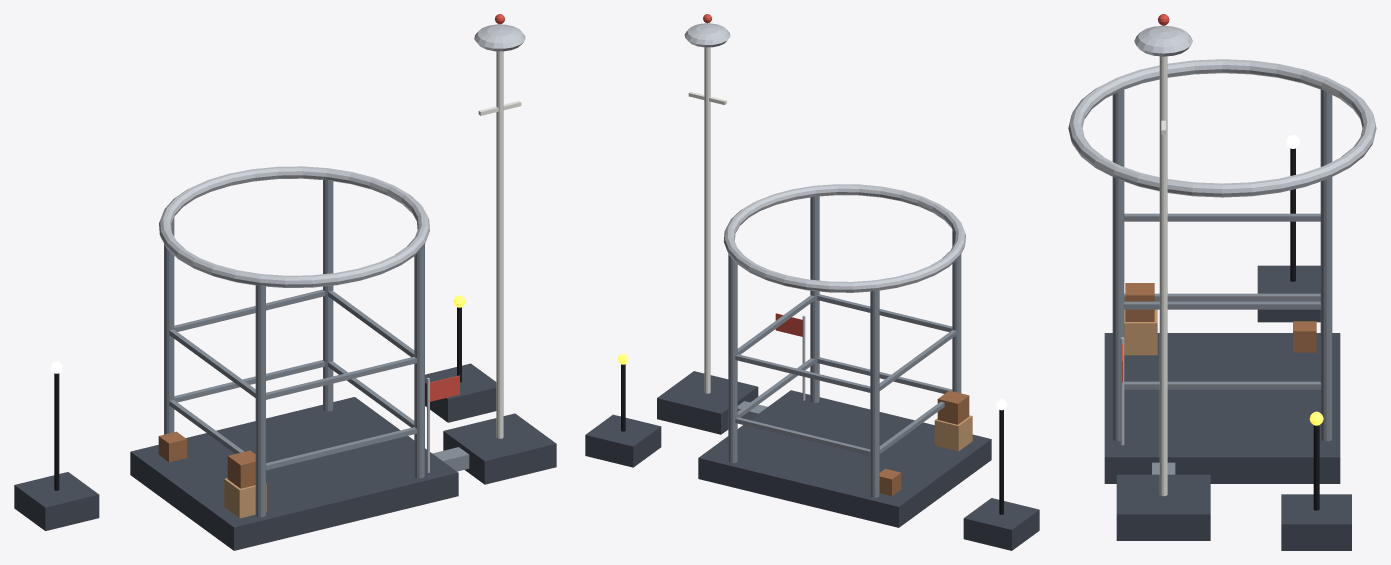
Rendered from site_station.glb.
3 views of the same model, side by side, from view 1: azimuth 30°, elevation 25°; view 2: azimuth 150°, elevation 25°; view 3: azimuth 270°, elevation 25° (orthographic). The views are drawn at different scales.
Visible parts, largest first — view 1: site_station; view 2: site_station; view 3: site_station.
Boxes of the visible parts, left/top/right/bottom form: site_station: left=14, top=14, right=556, bottom=550; site_station: left=585, top=14, right=1039, bottom=550; site_station: left=1068, top=14, right=1376, bottom=550.
Bounding box in the file's own units: 10.4 × 9.5 × 5.24.
